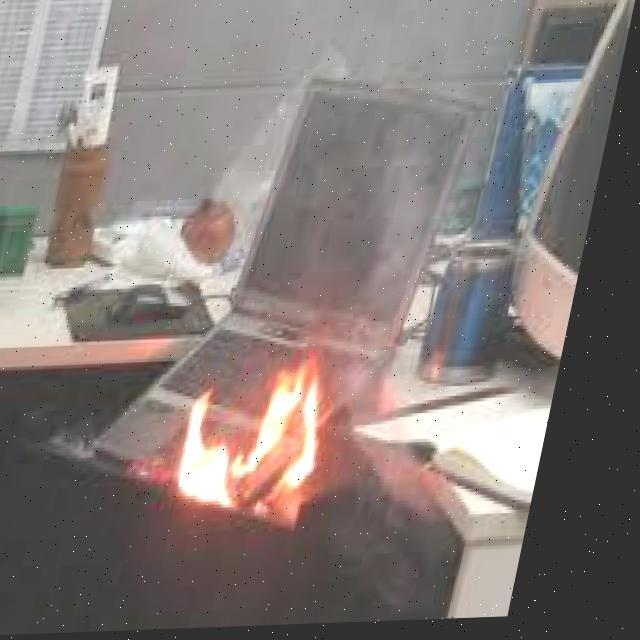Fire: (178, 336, 356, 532)
